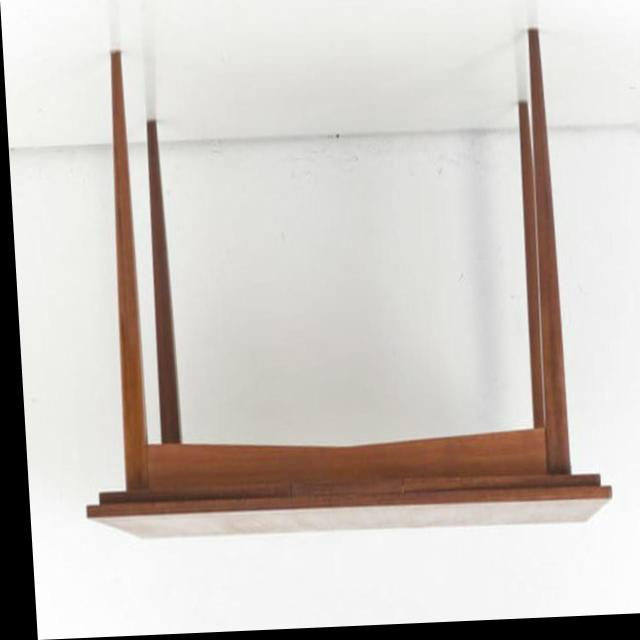Table: (44, 0, 614, 566)
